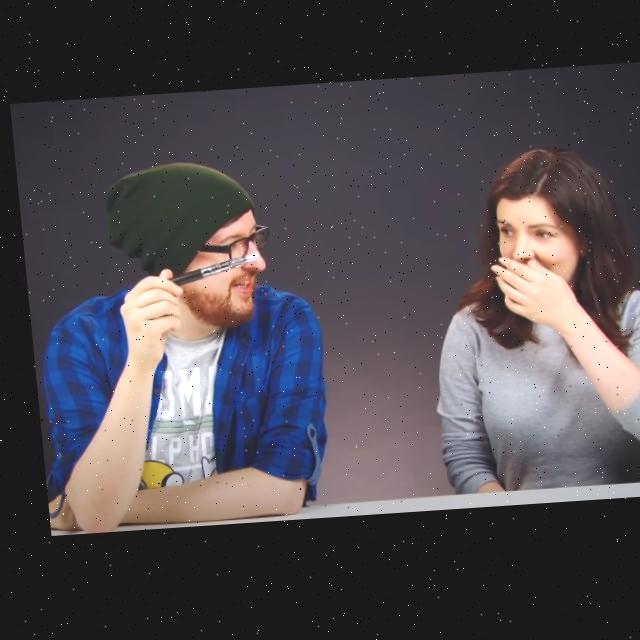vape: (160, 255, 259, 290)
